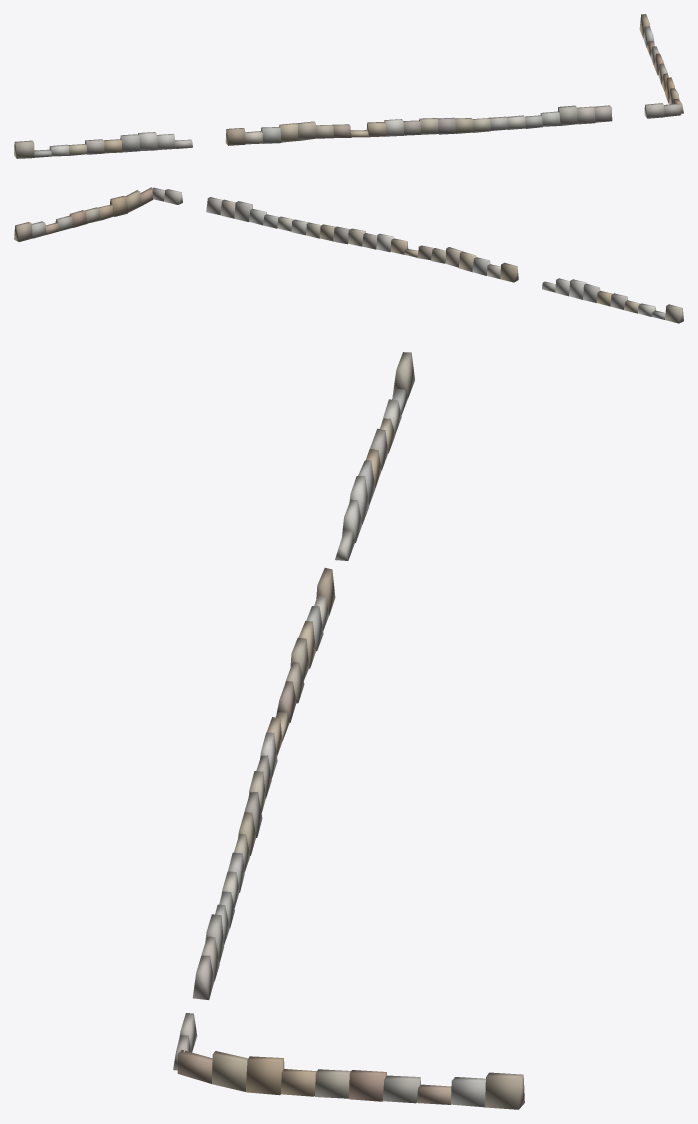
File: farm_11_7_far.glb
The picture shows the model from 3 angles, top to bottom: view 1: azimuth 30°, elevation 25°; view 2: azimuth 150°, elevation 25°; view 3: azimuth 270°, elevation 25°; orthographic projection. The views are drawn at different scales.
Parts seen in each view (by area): view 1: geometry_0; view 2: geometry_0; view 3: geometry_0.
Part boxes in pixels (x1=…): geometry_0: x1=14, y1=14, x2=683, y2=158; geometry_0: x1=14, y1=187, x2=683, y2=323; geometry_0: x1=173, y1=352, x2=524, y2=1109.
Size of the model in its own units: 64.35 by 7.51 by 15.31.
